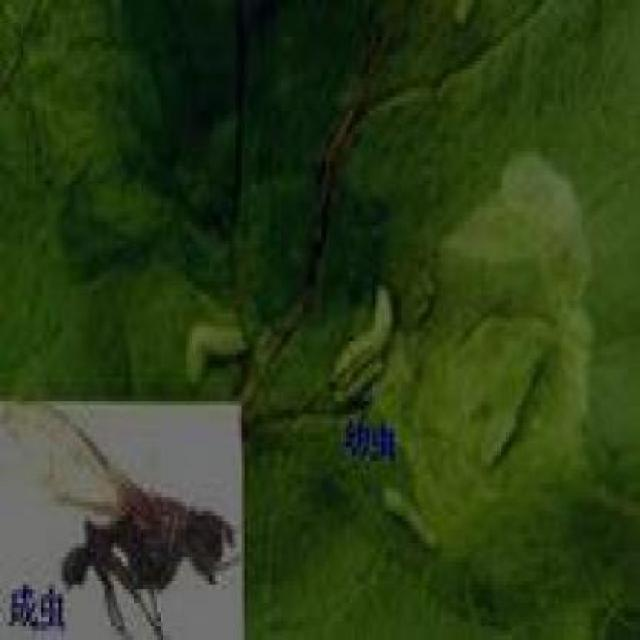whorl-maggot: (325, 281, 397, 414), (177, 312, 249, 388), (382, 478, 444, 562)
